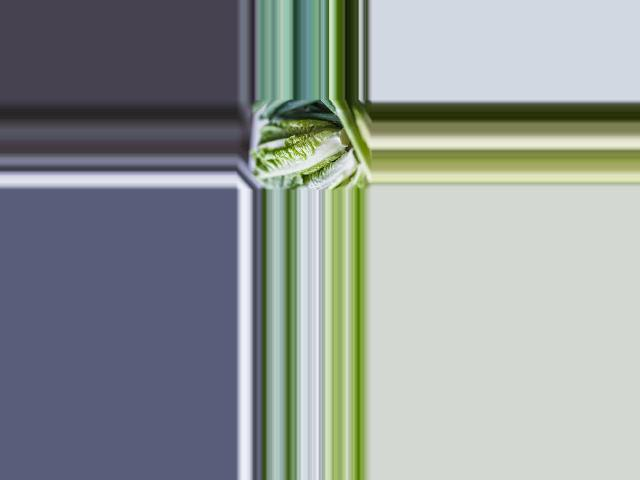lettuce: (251, 117, 349, 179)
